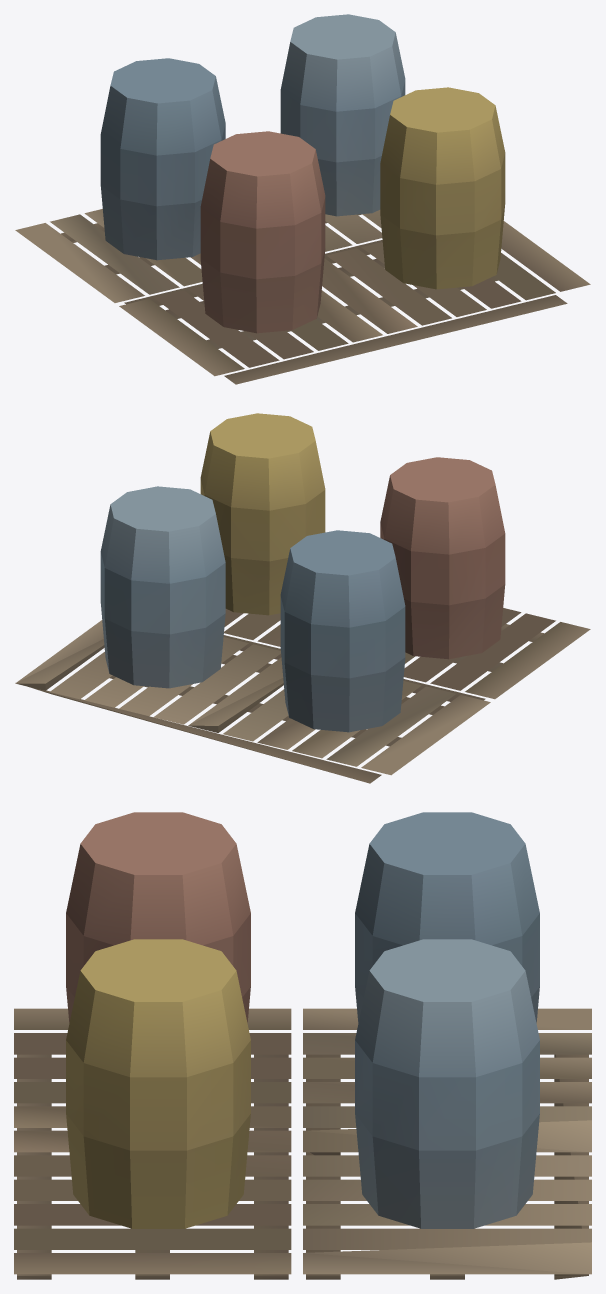
The model's file is drums.lod1.glb.
The picture shows the model from 3 angles, top to bottom: view 1: azimuth 30°, elevation 25°; view 2: azimuth 150°, elevation 25°; view 3: azimuth 270°, elevation 25°; orthographic projection. The views are drawn at different scales.
Size of the model in its own units: 2.2 by 0.975 by 2.
